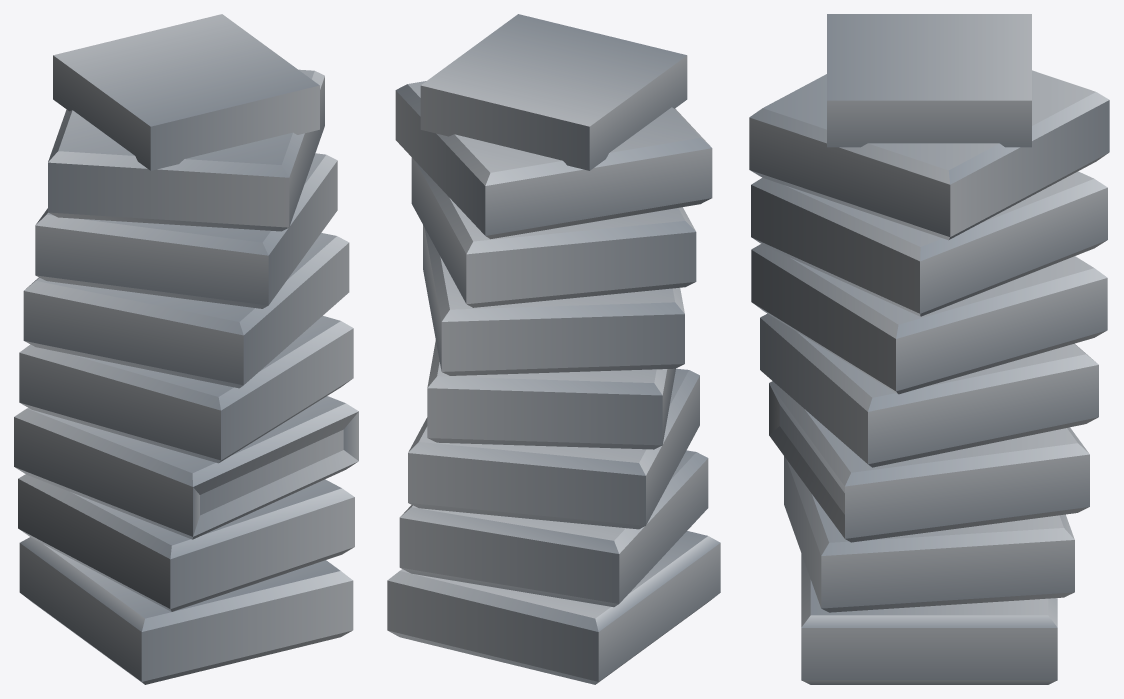
Rendered from dt_pizza_box_tower.fbx.
The picture shows the model from 3 angles, left to right: view 1: azimuth 30°, elevation 25°; view 2: azimuth 150°, elevation 25°; view 3: azimuth 270°, elevation 25°; orthographic projection. The views are drawn at different scales.
Visible parts, largest first — view 1: dt_pizza_box_tower; view 2: dt_pizza_box_tower; view 3: dt_pizza_box_tower.
Part boxes in pixels (x1,y1,x2,y2): dt_pizza_box_tower: (14,14,358,684); dt_pizza_box_tower: (387,14,720,684); dt_pizza_box_tower: (749,14,1109,684).
Size of the model in its own units: 221 by 390 by 221.
